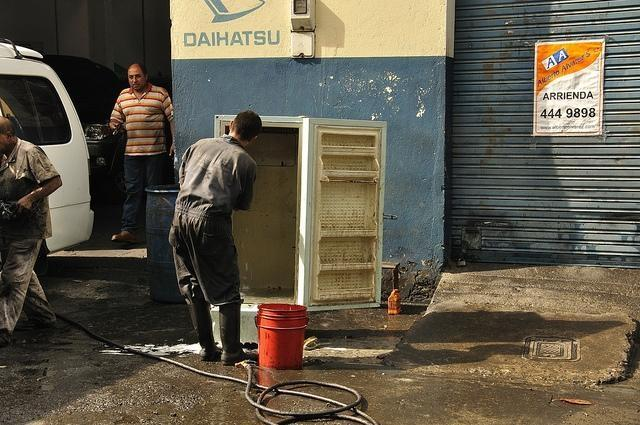car: (0, 40, 93, 255), (44, 54, 126, 204)
